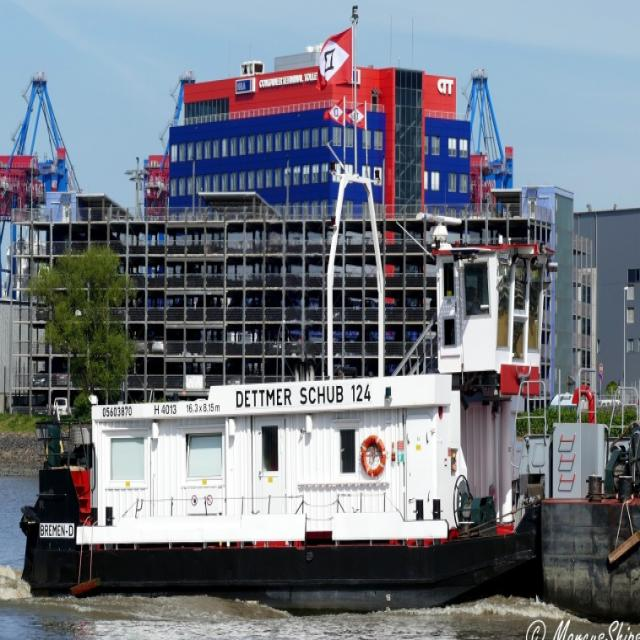tugboat: (14, 211, 593, 634)
